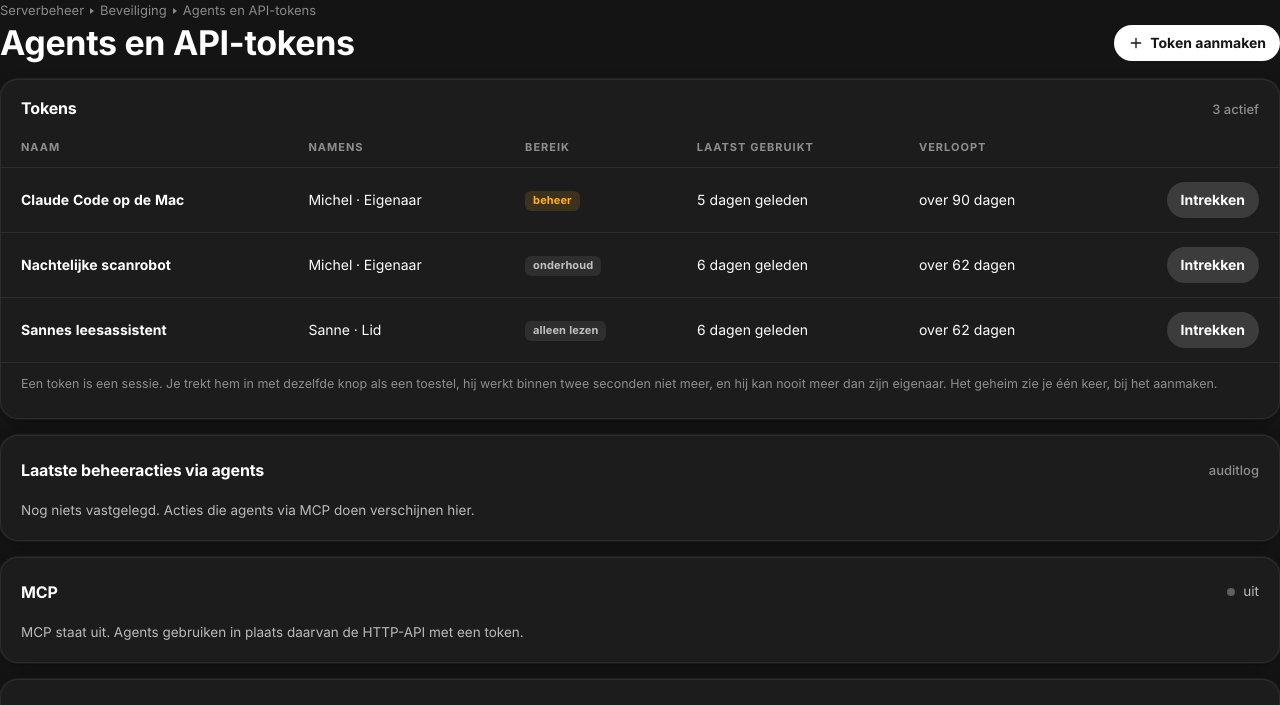
Test: scherm 34, intrekken › trekt een token pas in na bevestiging en haalt het dan uit de lijst
Click the button with aria-label "Sannes leesassistent intrekken": click(1213, 330) left=1166, top=312, right=1259, bottom=348
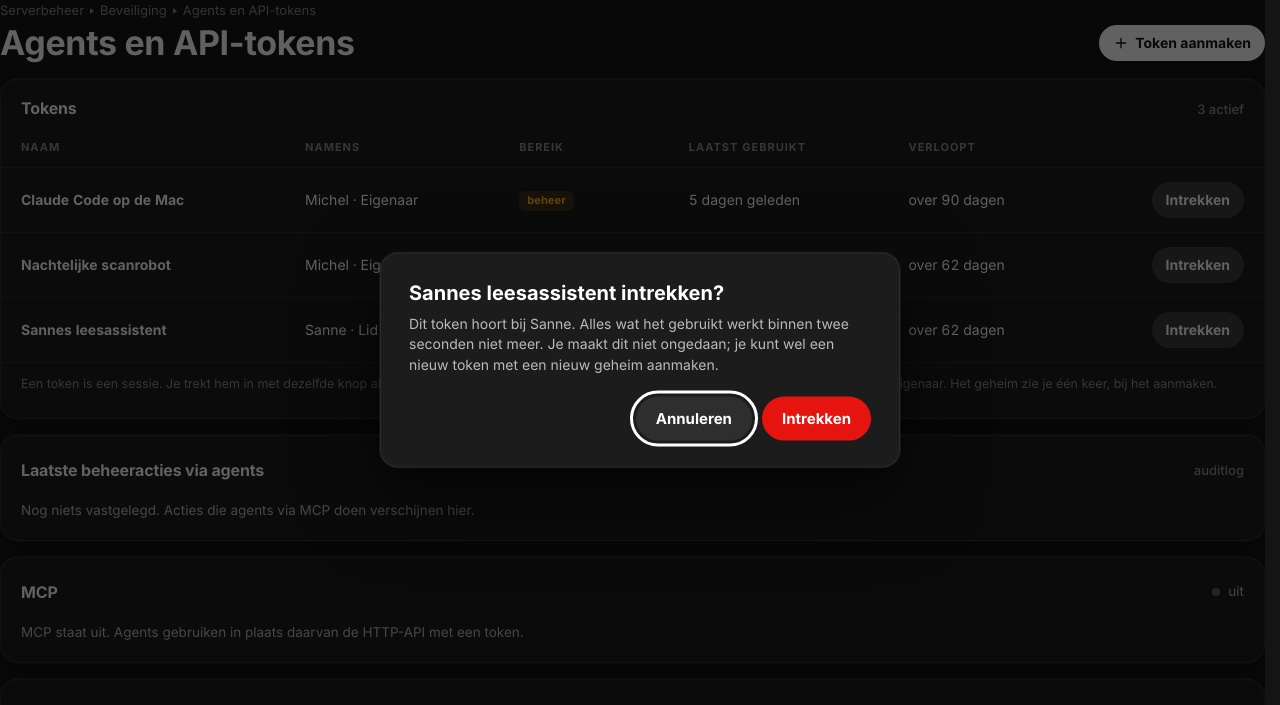
Expected: the text "Dit token hoort bij Sanne" is shown, left=409, top=315, right=849, bottom=372
Click the button "Intrekken": click(816, 418) left=762, top=396, right=871, bottom=440
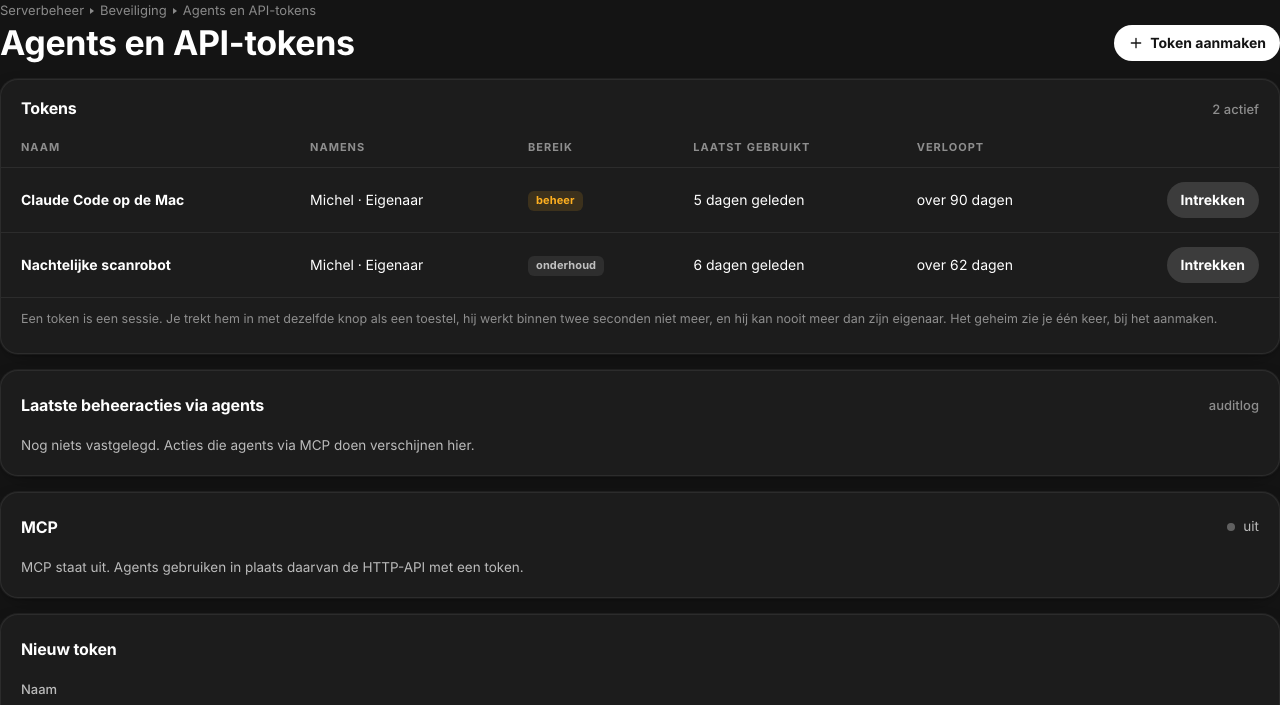
Expected: the text "Sannes leesassistent" is gone
Expected: the text "2 actief" is shown, left=1212, top=99, right=1259, bottom=119
